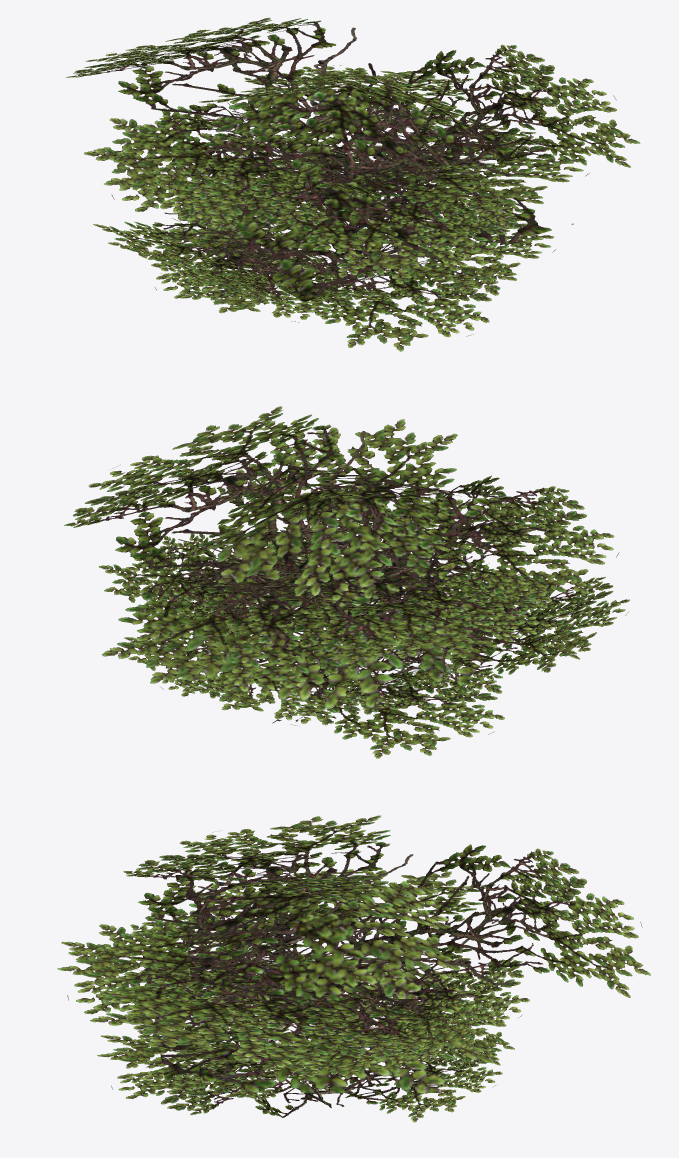
The model's file is arbusto_c.glb.
The picture shows the model from 3 angles, top to bottom: view 1: azimuth 30°, elevation 25°; view 2: azimuth 150°, elevation 25°; view 3: azimuth 270°, elevation 25°; orthographic projection. The views are drawn at different scales.
Visible parts, largest first — view 1: Modelo; view 2: Modelo; view 3: Modelo.
Boxes of the visible parts, x1,y1,x2,y2 form: Modelo: (66,17,640,351); Modelo: (64,406,629,758); Modelo: (57,815,650,1122).
Size of the model in its own units: 4.47 by 1.54 by 4.62.
1 material, 1 textured.
